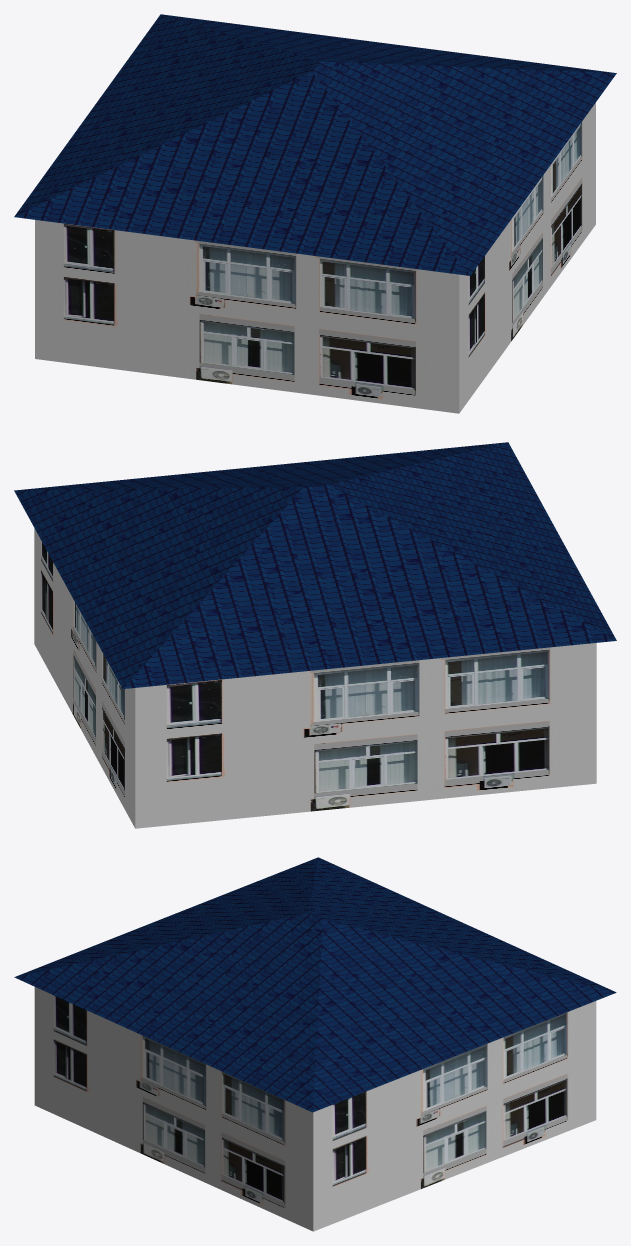
3 views of the same model, one above another, from view 1: azimuth 30°, elevation 25°; view 2: azimuth 150°, elevation 25°; view 3: azimuth 270°, elevation 25° (orthographic). The views are drawn at different scales.
Visible parts, largest first — view 1: CityEngineMaterial_6_m, CityEngineMaterial_9_m; view 2: CityEngineMaterial_6_m, CityEngineMaterial_9_m; view 3: CityEngineMaterial_6_m, CityEngineMaterial_9_m.
Boxes of the visible parts, box(x1,y1,x2,y2) form: CityEngineMaterial_6_m: box(14, 14, 616, 275); CityEngineMaterial_9_m: box(35, 102, 595, 413); CityEngineMaterial_6_m: box(14, 442, 616, 688); CityEngineMaterial_9_m: box(34, 528, 596, 828); CityEngineMaterial_6_m: box(14, 857, 616, 1112); CityEngineMaterial_9_m: box(34, 987, 596, 1231).
Bounding box in the file's own units: 38.88 × 13.96 × 38.82.
